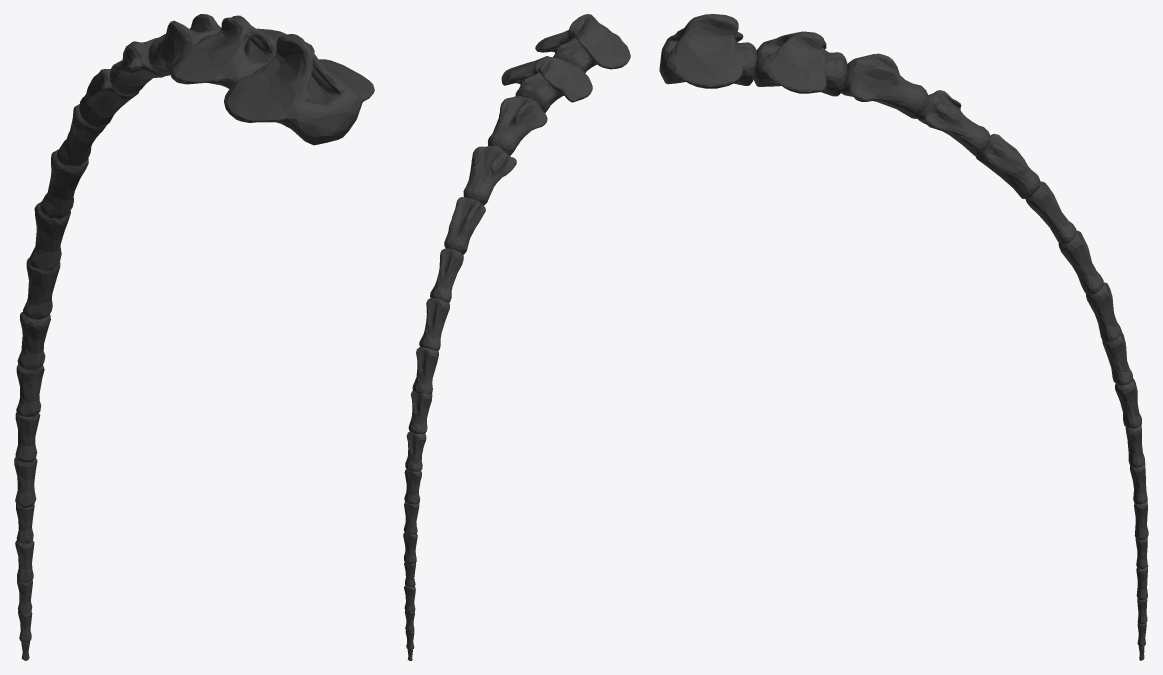
The model's file is skel_spine_caudal_vert.glb.
3 renders of one model, left to right at view 1: azimuth 30°, elevation 25°; view 2: azimuth 150°, elevation 25°; view 3: azimuth 270°, elevation 25°, orthographic. The views are drawn at different scales.
Parts seen in each view (by area): view 1: skel_spine_caudal_vert; view 2: skel_spine_caudal_vert; view 3: skel_spine_caudal_vert.
Part boxes in pixels (x1,y1,x2,y2): skel_spine_caudal_vert: (14,14,374,660); skel_spine_caudal_vert: (403,14,630,660); skel_spine_caudal_vert: (659,14,1148,660).
Bounding box in the file's own units: 0.00129 × 0.00739 × 0.00507.
Materials: 1 (1 with a texture image).
